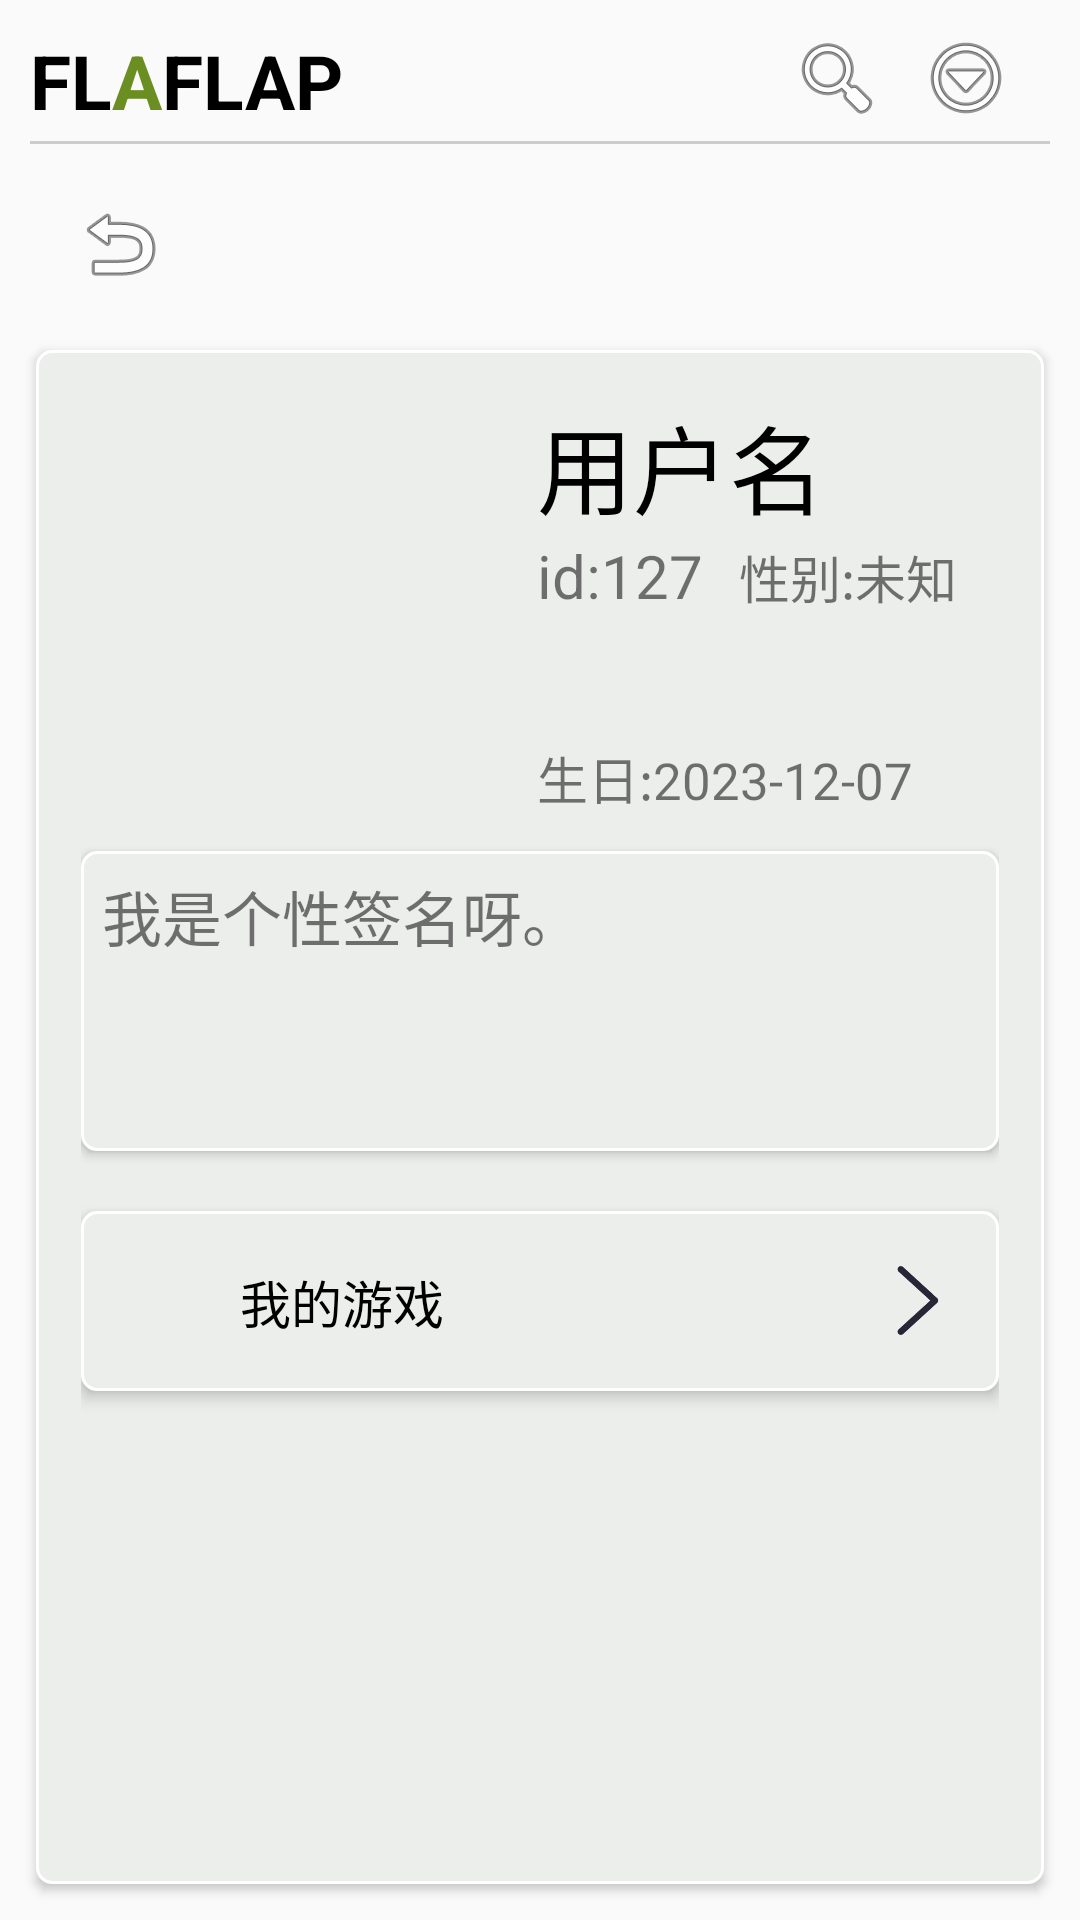

Named icons in this screenshot (1080w x 1920h) and their centers, (x,y):
Back: (121,244)
Menu: (966,78)
Search: (837,78)
